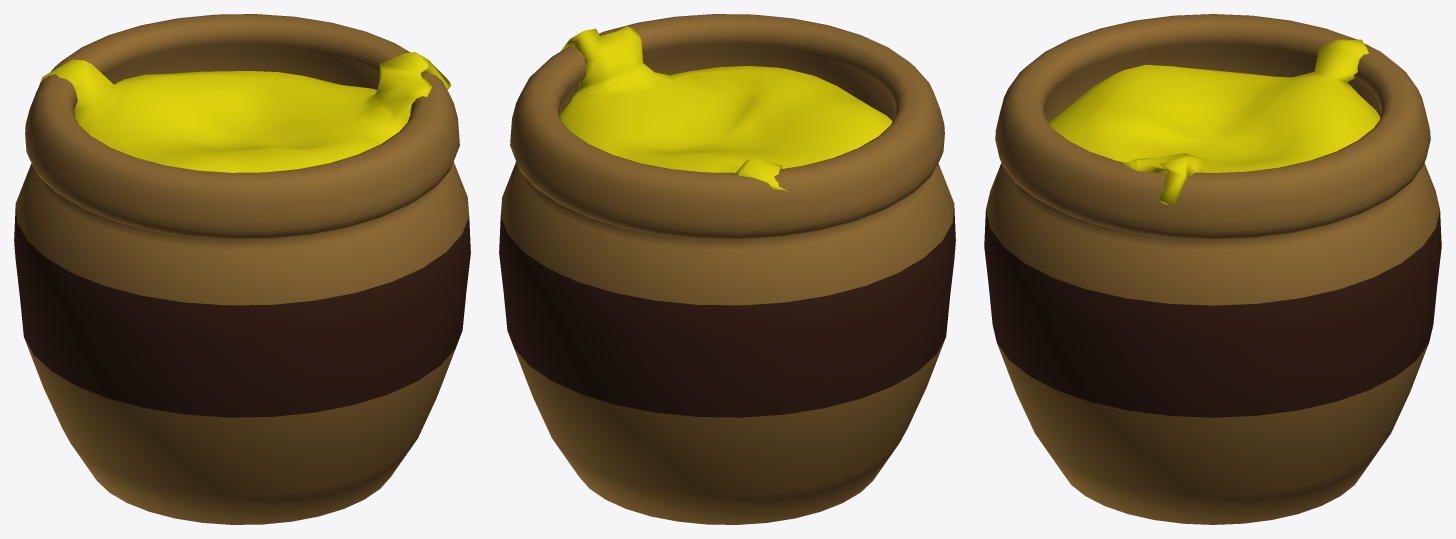
The model's file is Honey.fbx.
The picture shows the model from 3 angles, left to right: view 1: azimuth 30°, elevation 25°; view 2: azimuth 150°, elevation 25°; view 3: azimuth 270°, elevation 25°; orthographic projection.
Parts seen in each view (by area): view 1: Sphere, Sphere.001; view 2: Sphere, Sphere.001; view 3: Sphere, Sphere.001.
Part boxes in pixels (left/top/right/bottom): Sphere: left=14, top=14, right=470, bottom=524; Sphere.001: left=38, top=52, right=450, bottom=172; Sphere: left=499, top=14, right=955, bottom=524; Sphere.001: left=560, top=26, right=892, bottom=192; Sphere: left=984, top=14, right=1441, bottom=524; Sphere.001: left=1049, top=39, right=1380, bottom=204.
Size of the model in its own units: 439 by 402 by 439.
